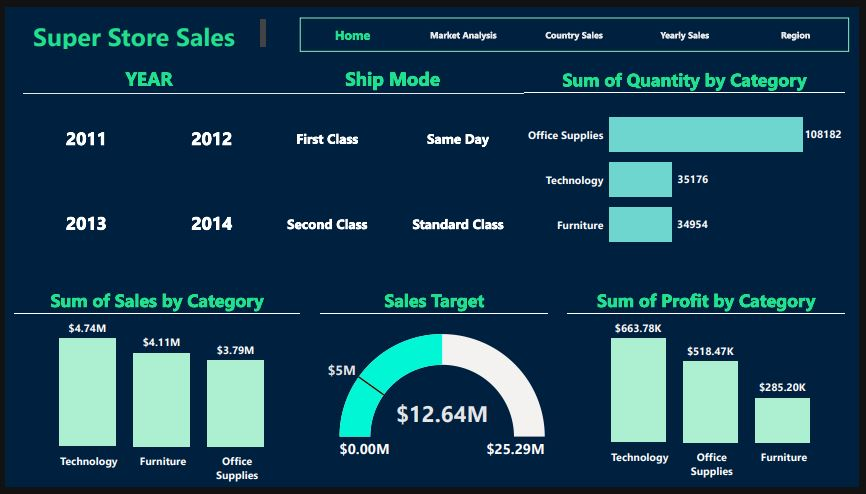

This screenshot's page, from the dashboard's own definition file:
{"tool":"powerbi","page":{"name":"Home ","canvas":[1280,720],"ordinal":0},"visuals":[{"type":"columnChart","fields":{"Category":["Sales Data.Category"],"Y":["Sum(Sales Data.Profit)"]},"box":[842.9,420.7,416.4,293.5],"z":6000},{"type":"columnChart","fields":{"Category":["Sales Data.Category"],"Y":["Sum(Sales Data.Sales)"]},"box":[14.5,420.7,428,299.3],"z":7000},{"type":"barChart","fields":{"Category":["Sales Data.Category"],"Y":["Sum(Sales Data.Quantity)"]},"box":[777.8,89.6,481.4,297.8],"z":8000},{"type":"gauge","title":"Sales Target ","fields":{"Y":["Sum(Sales Data.Sales)"]},"box":[472.8,420.7,341.2,294.9],"z":9000},{"type":"advancedSlicerVisual","title":"YEAR","fields":{"Values":["Sales Data.Order_Date.Variation.Date Hierarchy.Year"]},"box":[27.5,88.2,377.3,299.3],"z":10000},{"type":"advancedSlicerVisual","title":"Ship Mode","fields":{"Values":["Sales Data.Ship_Mode"]},"box":[384.4,87.6,393.3,300.3],"z":11000},{"type":"textbox","box":[0,13,394.7,54.9],"z":12000},{"type":"pageNavigator","box":[442.4,15.9,822.7,50.6],"z":13000}]}

Visuals, with their boxes in screenshot pixels (x1, y1, x2, y2), scaled from the page's 1280x720 canvas onto the 866x494 screenshot:
columnChart - Sales Data.Category x Sum(Sales Data.Profit): [570,289,852,490]
columnChart - Sales Data.Category x Sum(Sales Data.Sales): [10,289,299,493]
barChart - Sales Data.Category x Sum(Sales Data.Quantity): [526,61,852,266]
"Sales Target " gauge: [320,289,551,491]
"YEAR" advancedSlicerVisual: [19,61,274,266]
"Ship Mode" advancedSlicerVisual: [260,60,526,266]
textbox: [0,9,267,47]
pageNavigator: [299,11,856,46]
